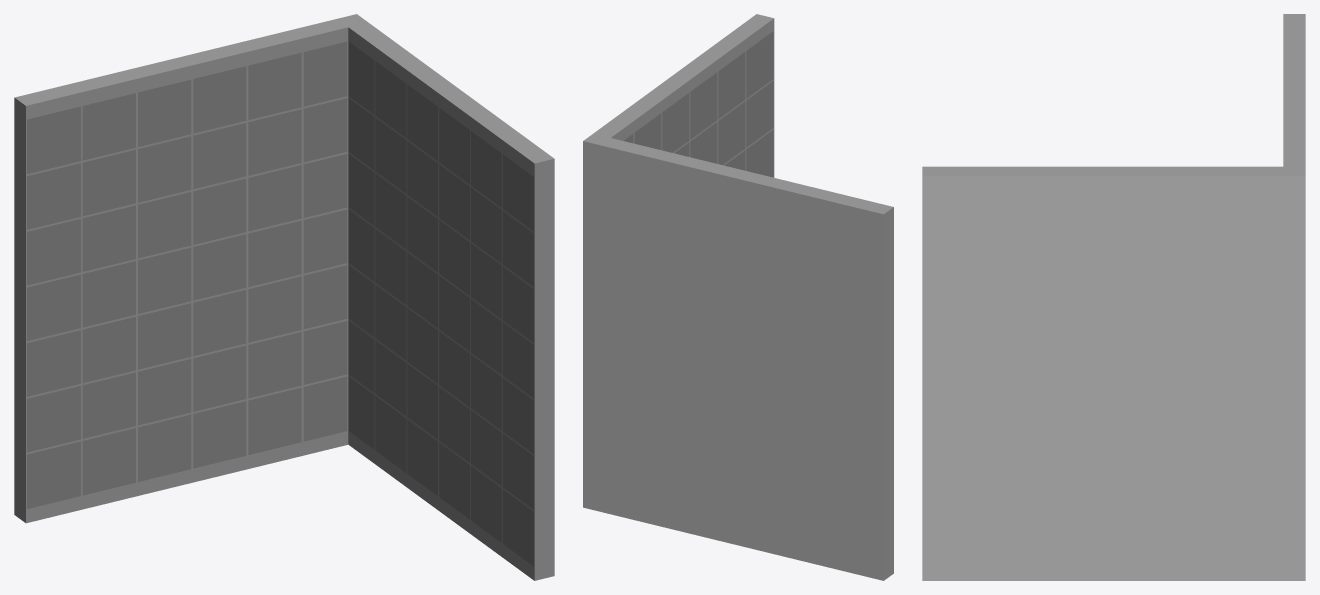
The model's file is Wall1_C7_06.fbx.
3 views of the same model, side by side, from view 1: azimuth 30°, elevation 25°; view 2: azimuth 150°, elevation 25°; view 3: azimuth 270°, elevation 25° (orthographic). The views are drawn at different scales.
Visible parts, largest first — view 1: Wall1_C7_06; view 2: Wall1_C7_06; view 3: Wall1_C7_06.
Part boxes in pixels (x1,y1,x2,y2): Wall1_C7_06: (14, 14, 554, 580); Wall1_C7_06: (583, 14, 893, 580); Wall1_C7_06: (922, 14, 1305, 580).
Size of the model in its own units: 258 by 300 by 258.
